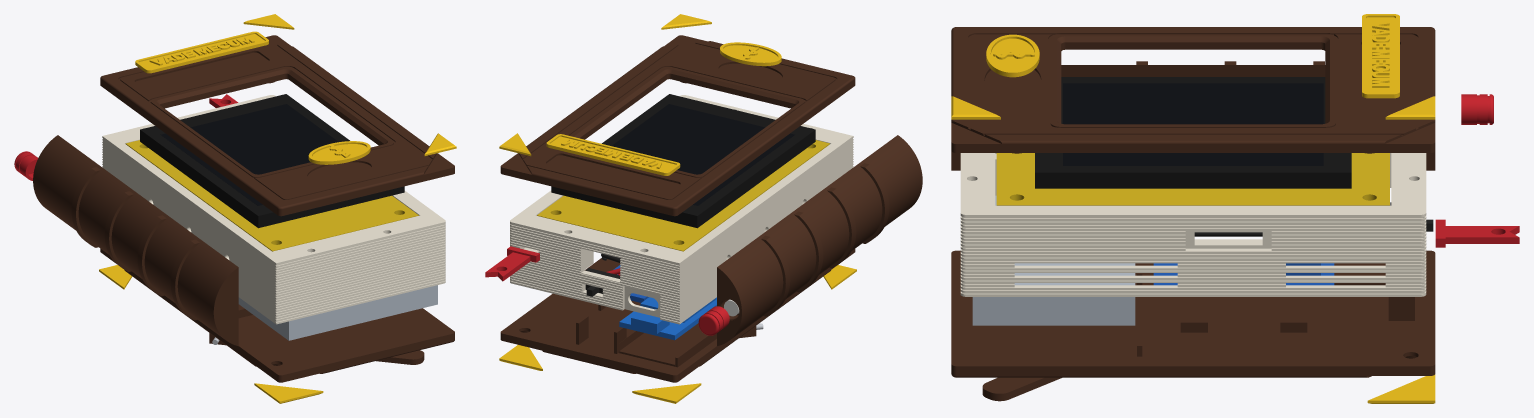
The model's file is patlatma.glb.
3 renders of one model, left to right at view 1: azimuth 30°, elevation 25°; view 2: azimuth 150°, elevation 25°; view 3: azimuth 270°, elevation 25°, orthographic. The views are drawn at different scales.
Parts seen in each view (by area): view 1: sayfa, on_kapak, sirt, arka_kapak, ekran, ic_kart, ic_lcd, ic_pil, baslik, arma, kose2, ayak (+3 smaller); view 2: on_kapak, sayfa, sirt, arka_kapak, ekran, ic_kart, ic_lcd, baslik, ic_tp4056, arma, kurdele, kose3 (+4 smaller); view 3: sayfa, arka_kapak, on_kapak, ekran, ic_lcd, ic_kart, ic_pil, sirt, baslik, arma, kurdele, kose4 (+5 smaller).
Part boxes in pixels (x1=…): sayfa: x1=102, y1=95, x2=445, y2=324; on_kapak: x1=100, y1=35, x2=454, y2=216; sirt: x1=33, y1=135, x2=238, y2=345; arka_kapak: x1=100, y1=248, x2=454, y2=382; ekran: x1=160, y1=104, x2=338, y2=205; ic_kart: x1=125, y1=140, x2=418, y2=251; ic_lcd: x1=140, y1=94, x2=404, y2=228; ic_pil: x1=238, y1=285, x2=437, y2=340; baslik: x1=135, y1=31, x2=268, y2=73; arma: x1=308, y1=141, x2=370, y2=164; kose2: x1=254, y1=383, x2=323, y2=403; ayak: x1=209, y1=333, x2=424, y2=364; on_kapak: x1=500, y1=35, x2=855, y2=216; sayfa: x1=510, y1=95, x2=853, y2=324; sirt: x1=717, y1=135, x2=922, y2=345; arka_kapak: x1=500, y1=249, x2=855, y2=382; ekran: x1=611, y1=104, x2=794, y2=205; ic_kart: x1=537, y1=140, x2=829, y2=251; ic_lcd: x1=551, y1=94, x2=815, y2=228; baslik: x1=546, y1=134, x2=680, y2=175; ic_tp4056: x1=619, y1=297, x2=716, y2=340; arma: x1=720, y1=42, x2=781, y2=66; kurdele: x1=485, y1=246, x2=539, y2=281; kose3: x1=632, y1=383, x2=701, y2=403; sayfa: x1=960, y1=153, x2=1426, y2=296; arka_kapak: x1=951, y1=250, x2=1435, y2=377; on_kapak: x1=951, y1=27, x2=1435, y2=153; ekran: x1=1063, y1=83, x2=1323, y2=165; ic_lcd: x1=1035, y1=77, x2=1351, y2=188; ic_kart: x1=996, y1=153, x2=1389, y2=205; ic_pil: x1=972, y1=195, x2=1135, y2=325; sirt: x1=951, y1=61, x2=1435, y2=170; baslik: x1=1362, y1=14, x2=1399, y2=98; arma: x1=986, y1=34, x2=1039, y2=77; kurdele: x1=1435, y1=219, x2=1519, y2=247; kose4: x1=1367, y1=374, x2=1435, y2=403.
Size of the model in its own units: 0.0839 by 0.0723 by 0.1256.
